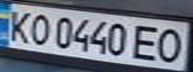0: (106, 20, 130, 57), (51, 14, 75, 50)
4: (87, 18, 112, 55), (69, 16, 93, 53)
E: (130, 21, 163, 62)
K: (3, 7, 36, 44)
O: (151, 26, 190, 64), (24, 11, 54, 46)
